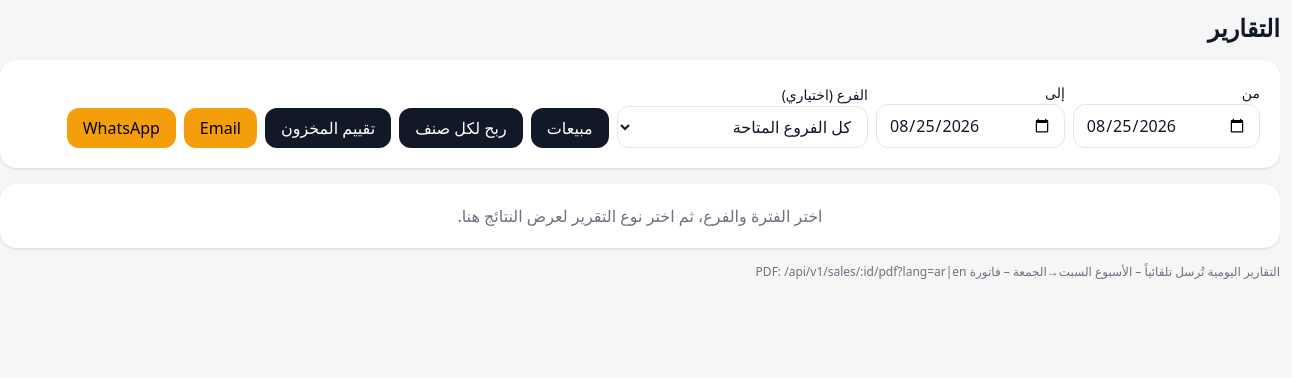
Reports delivery › shows sent:false as a visible failure rather than success
The image size is (1292, 378).
Click the button "Email": (220, 128) [184,108,257,148]
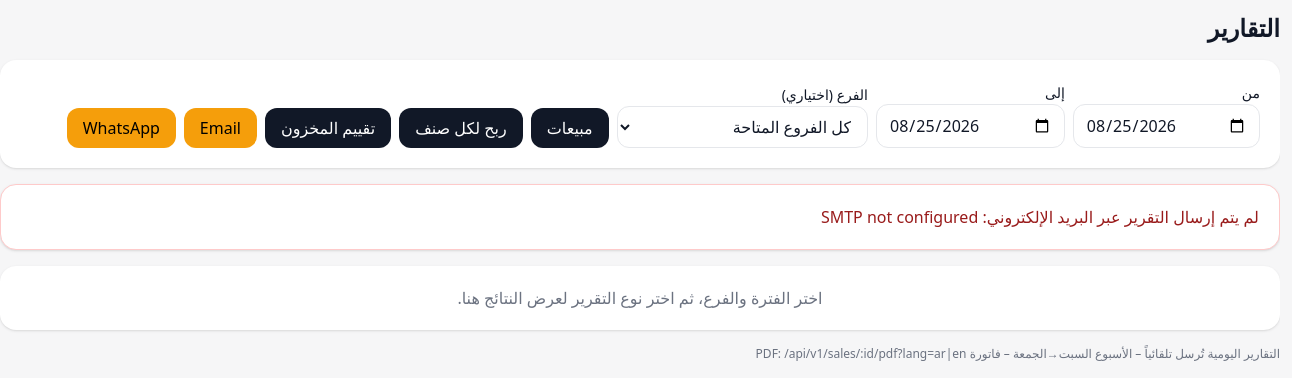
Result: the message reads "لم يتم إرسال التقرير عبر البريد الإلكتروني: SMTP not configured" at [821,206,1259,228]
